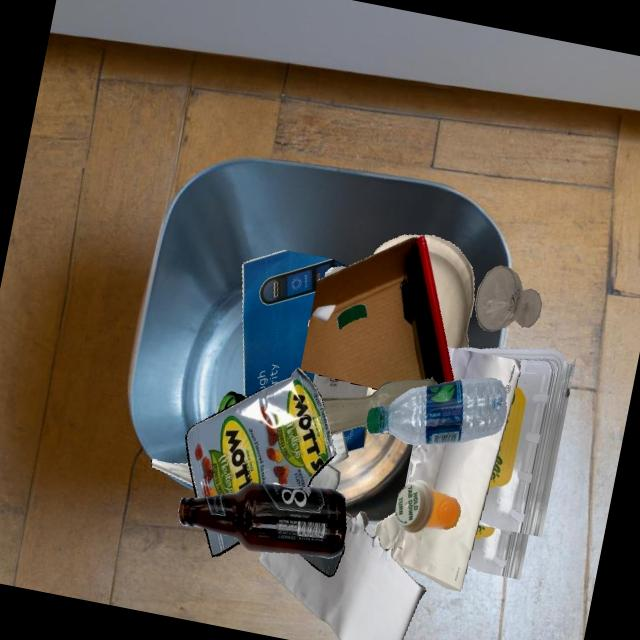biowaste: (308, 320, 310, 327)
cardboard: (300, 235, 454, 390)
glass: (178, 483, 346, 558), (321, 379, 437, 435), (475, 266, 541, 332), (217, 391, 247, 413)
paper: (373, 347, 520, 592), (258, 511, 425, 640), (242, 250, 348, 397), (301, 281, 367, 426), (367, 237, 428, 387), (428, 236, 474, 349), (152, 459, 193, 486), (327, 431, 348, 465)
plastic: (457, 347, 577, 538), (366, 378, 507, 445), (466, 525, 529, 580), (395, 480, 460, 533), (313, 374, 367, 398), (337, 304, 367, 330)
trash: (185, 367, 336, 498)
